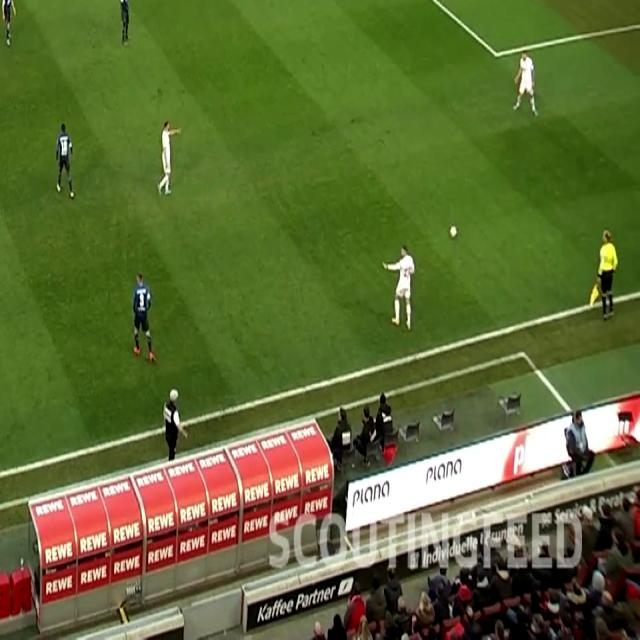ball: (442, 221, 461, 243)
referee: (585, 222, 629, 325)
soccer-player: (377, 240, 428, 334), (122, 268, 166, 371), (149, 115, 187, 200), (48, 117, 84, 206), (504, 46, 543, 120), (114, 0, 139, 50), (0, 0, 23, 51)
